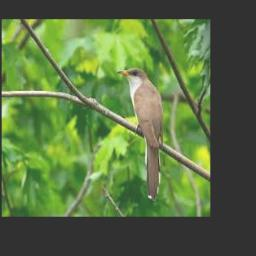Cuckoo: (117, 68, 164, 200)
